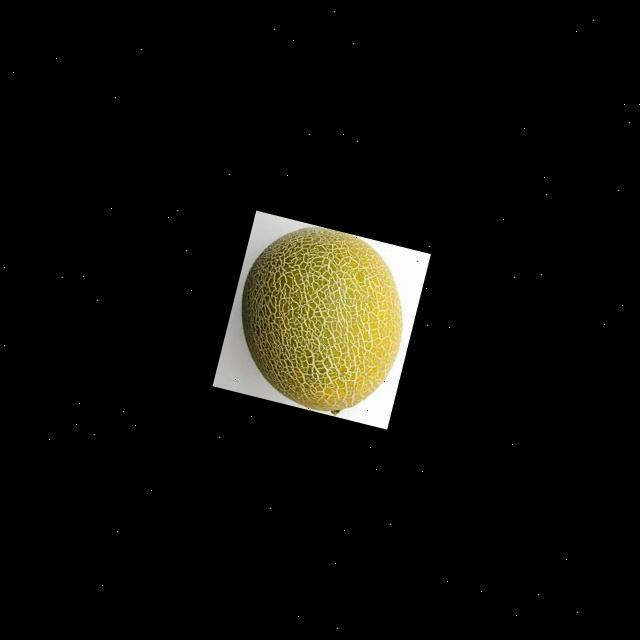Hami Melon: (216, 212, 422, 428)
